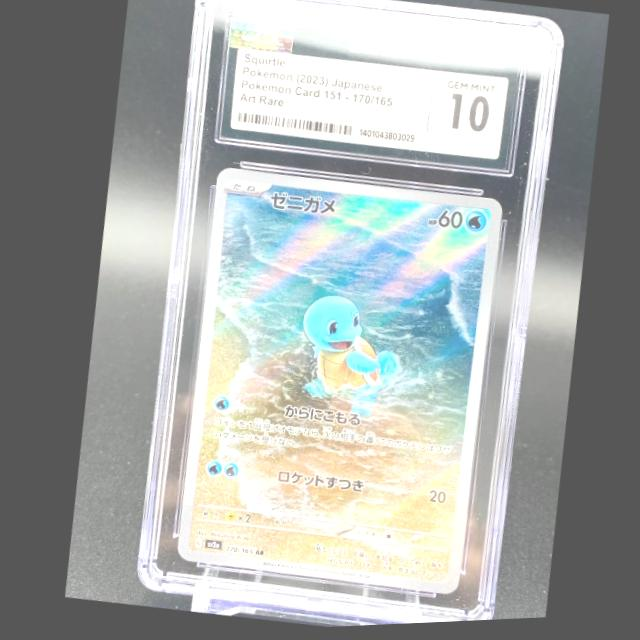card: (168, 168, 502, 600)
cgc_label: (217, 19, 522, 177)
cgc_slab: (127, 0, 566, 627)
